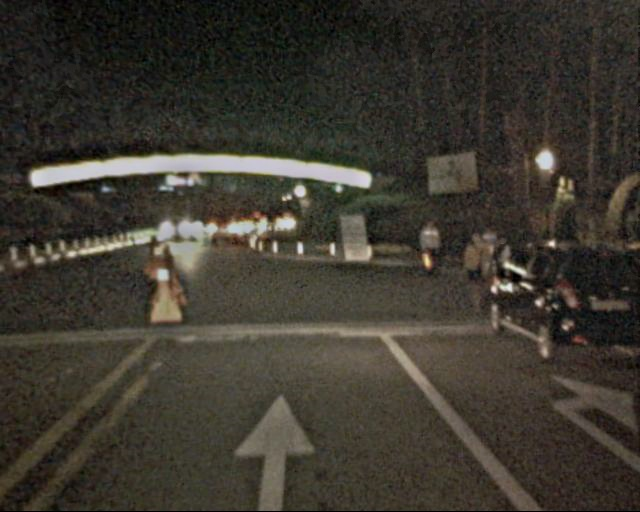person: (462, 235, 491, 305), (489, 233, 517, 302), (418, 216, 443, 277)
